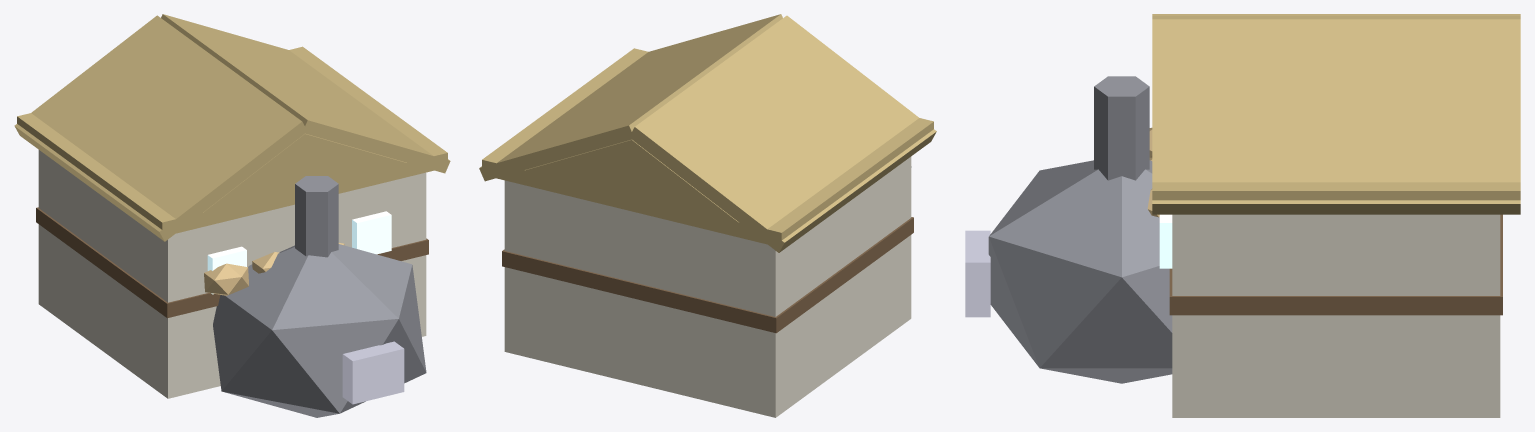
Rendered from bakery.glb.
The picture shows the model from 3 angles, left to right: view 1: azimuth 30°, elevation 25°; view 2: azimuth 150°, elevation 25°; view 3: azimuth 270°, elevation 25°; orthographic projection. The views are drawn at different scales.
Parts seen in each view (by area): view 1: BakeryWall; view 2: BakeryWall; view 3: BakeryWall.
Boxes of the visible parts, bbox=[...] form: BakeryWall: bbox=[14, 14, 450, 417]; BakeryWall: bbox=[479, 14, 936, 417]; BakeryWall: bbox=[965, 14, 1520, 417].
Size of the model in its own units: 1.69 by 1.6 by 2.2.
